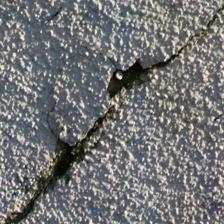Crack: (55, 69, 171, 155), (3, 86, 114, 134)
